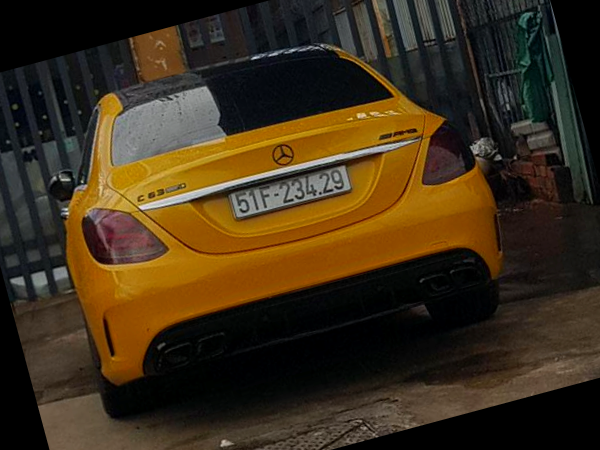lisence: (230, 165, 353, 218)
